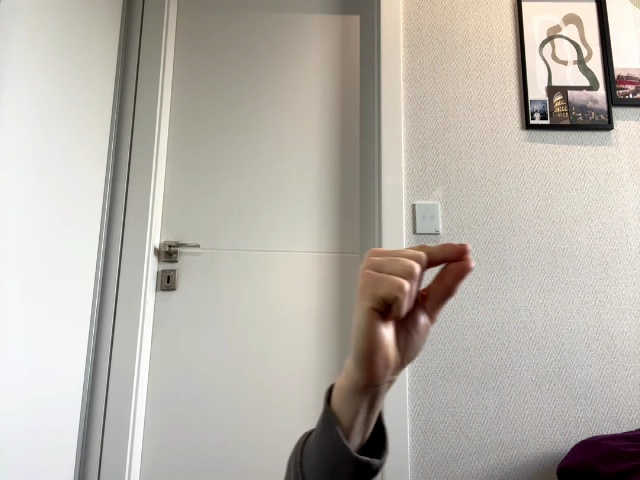P: (350, 243, 474, 406)
